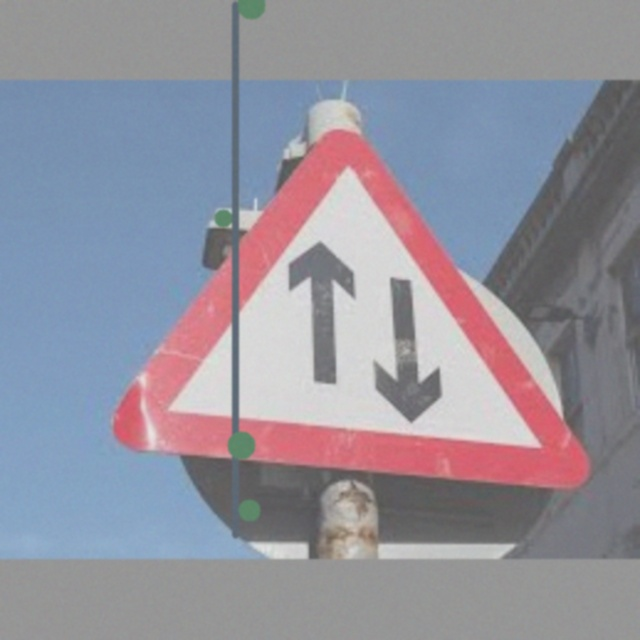Mandatory_Two_Way_Traffic: (119, 130, 594, 494)
